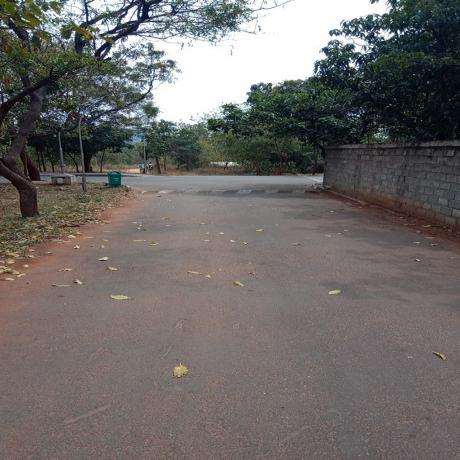Speed Bump: (123, 186, 323, 196)
